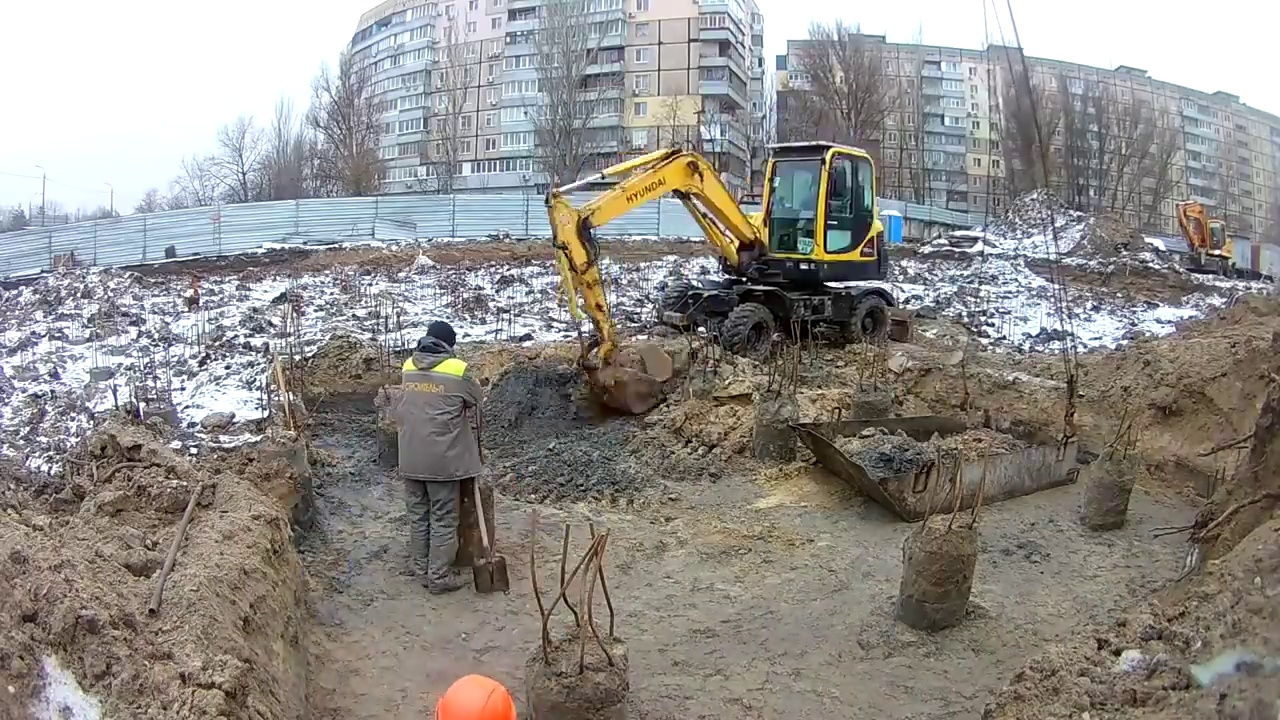helmet: (425, 674, 516, 720)
helmet-off: (413, 325, 458, 367)
person: (388, 323, 482, 595)
